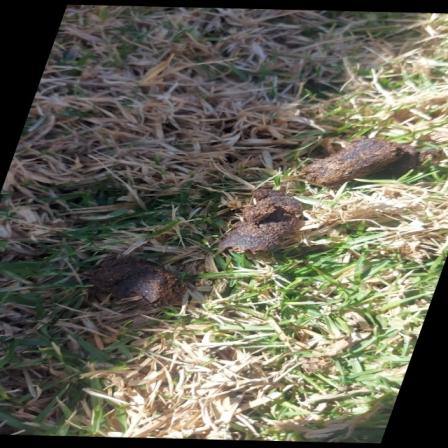dog-poop: (233, 135, 410, 258), (86, 248, 174, 313)
